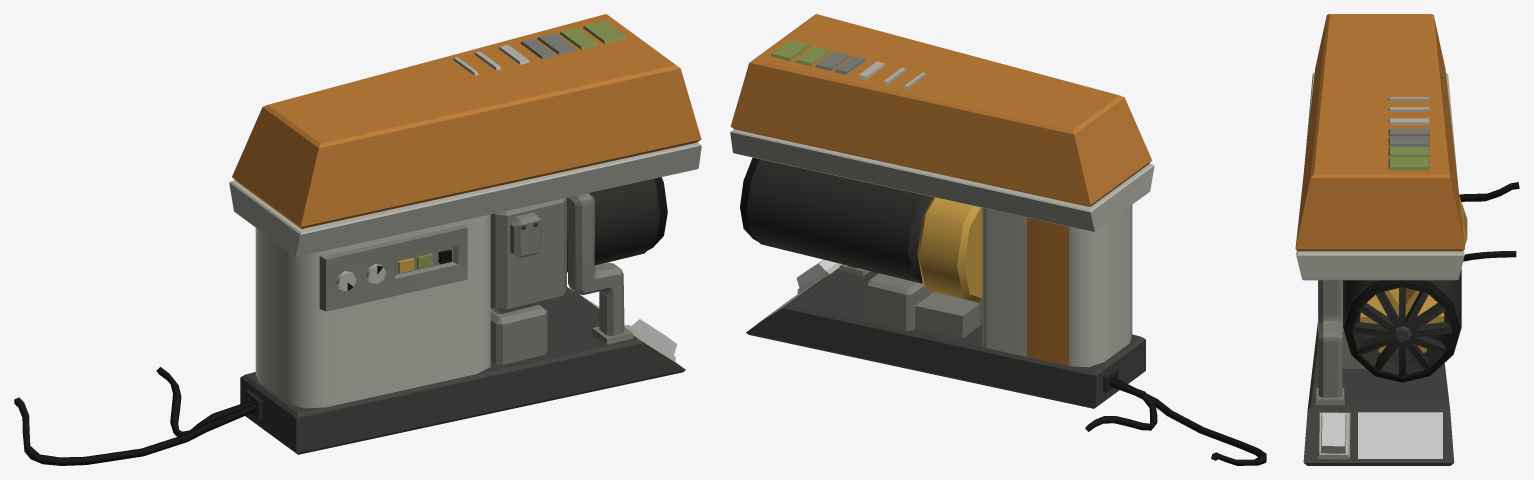
Rendered from Generator.fbx.
3 views of the same model, side by side, from view 1: azimuth 30°, elevation 25°; view 2: azimuth 150°, elevation 25°; view 3: azimuth 270°, elevation 25° (orthographic). The views are drawn at different scales.
Visible parts, largest first — view 1: GeneratorMain, Generator_Wires; view 2: GeneratorMain, Generator_Wires; view 3: GeneratorMain, Generator_Rotator, Generator_Button, Generator_Wires.
Boxes of the visible parts, box(x1,y1,x2,y2) form: GeneratorMain: box(229, 14, 701, 454); Generator_Wires: box(14, 367, 256, 465); GeneratorMain: box(730, 14, 1154, 408); Generator_Wires: box(1085, 377, 1266, 465); GeneratorMain: box(1295, 14, 1467, 465); Generator_Rotator: box(1360, 288, 1444, 352); Generator_Button: box(1320, 413, 1346, 453); Generator_Wires: box(1459, 182, 1519, 261).
Size of the model in its own units: 2.44 by 1.24 by 0.8447.
